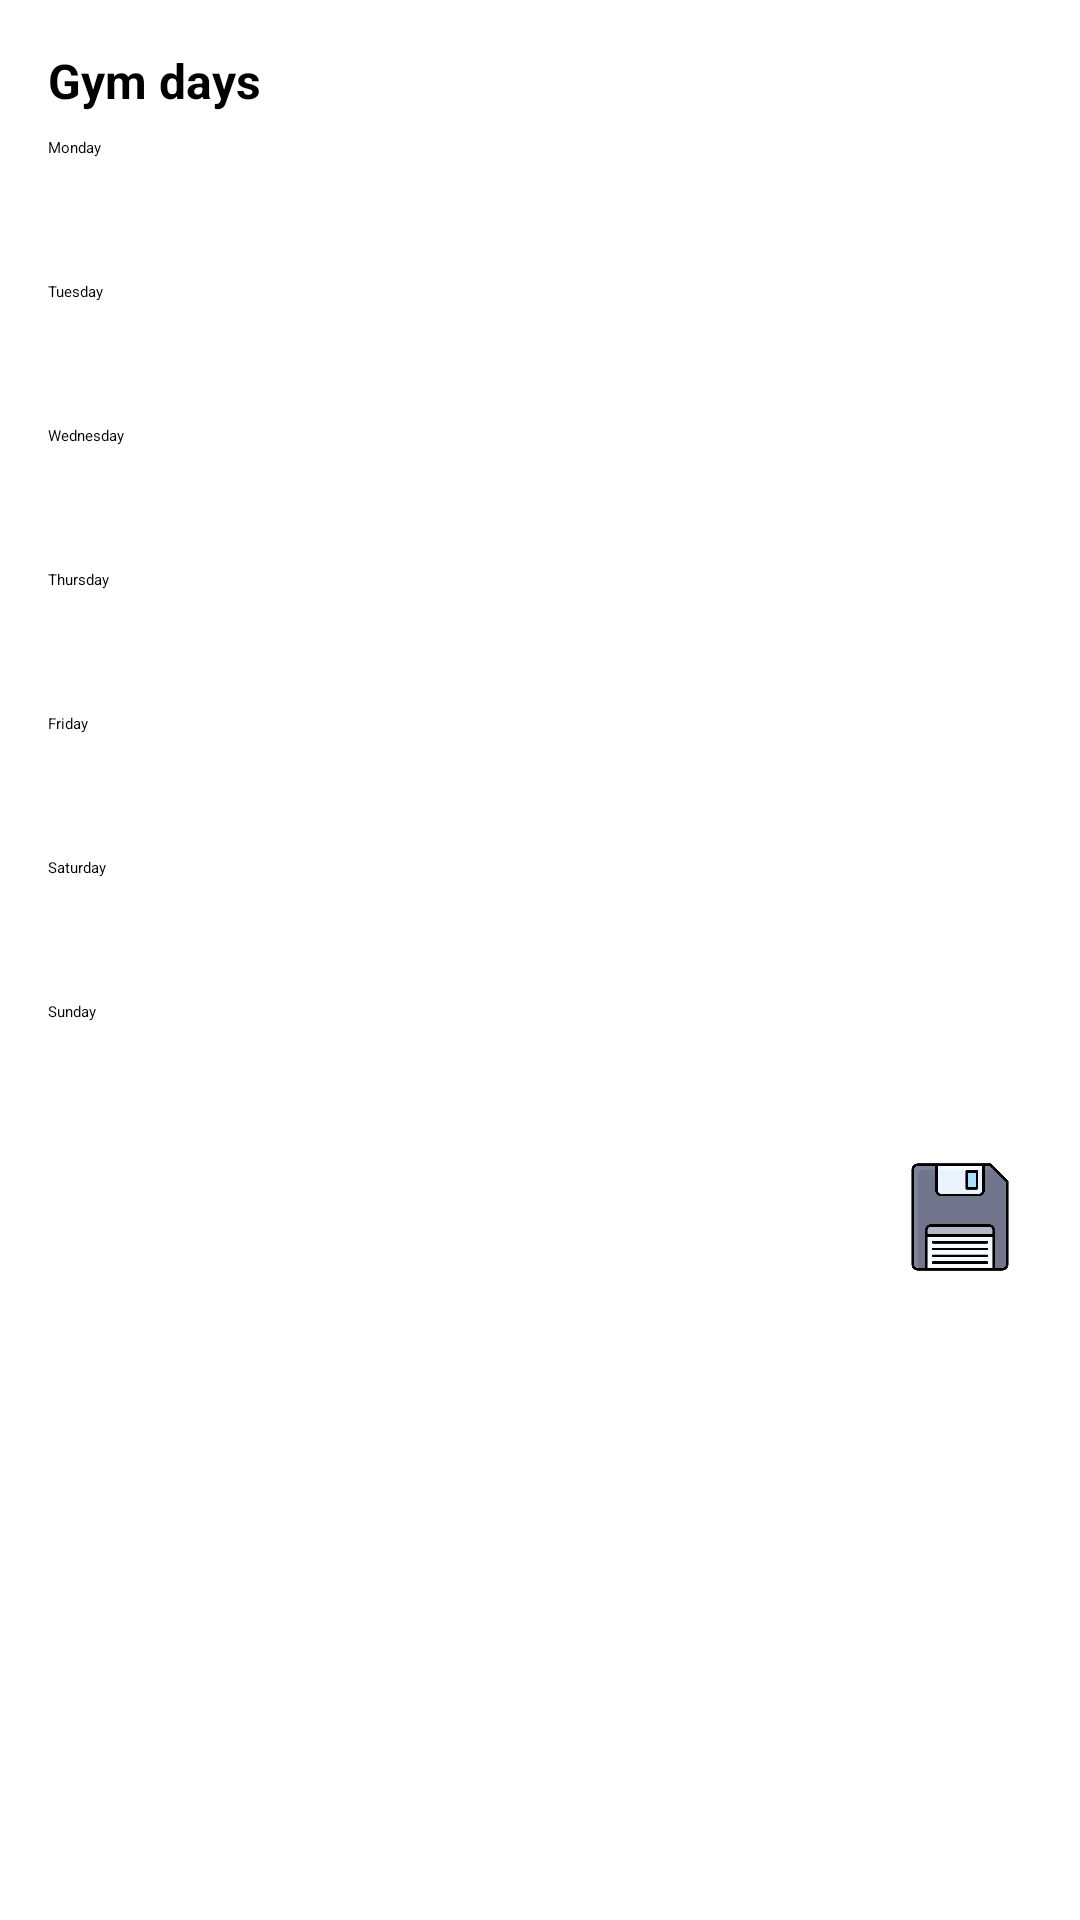

Screen size 1080x1920. Icon name, then its box in pixels as box(x1, y1, x2, y2):
save: box(911, 1163, 1009, 1271)
